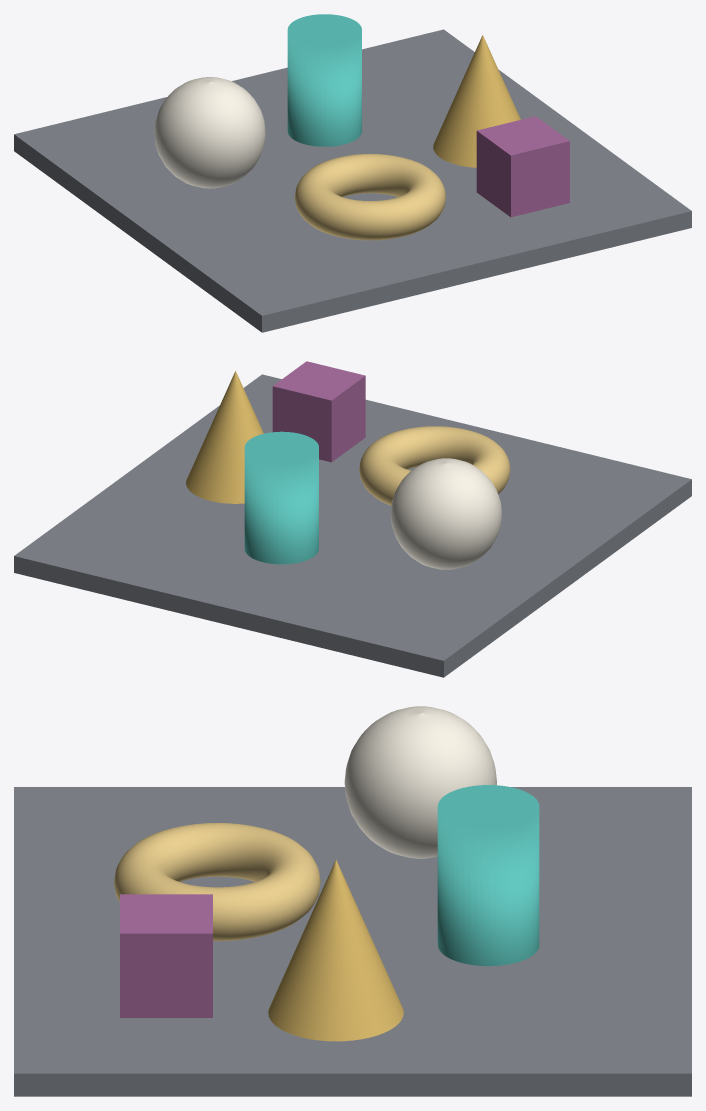
3 views of the same model, one above another, from view 1: azimuth 30°, elevation 25°; view 2: azimuth 150°, elevation 25°; view 3: azimuth 270°, elevation 25° (orthographic). The views are drawn at different scales.
Parts seen in each view (by area): view 1: Still life of primitives; view 2: Still life of primitives; view 3: Still life of primitives.
Part boxes in pixels (x1,y1,x2,y2): Still life of primitives: [14, 14, 691, 332]; Still life of primitives: [14, 361, 691, 677]; Still life of primitives: [14, 706, 691, 1096].
Bounding box in the file's own units: 8 × 2.3 × 8.
